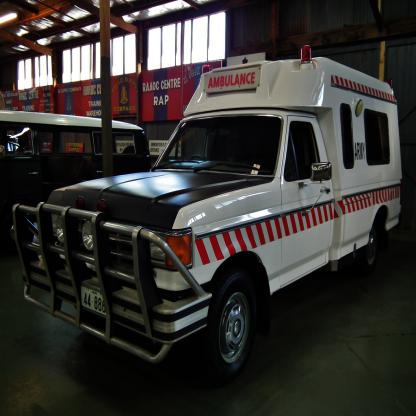Ambulance: (9, 44, 401, 382)
